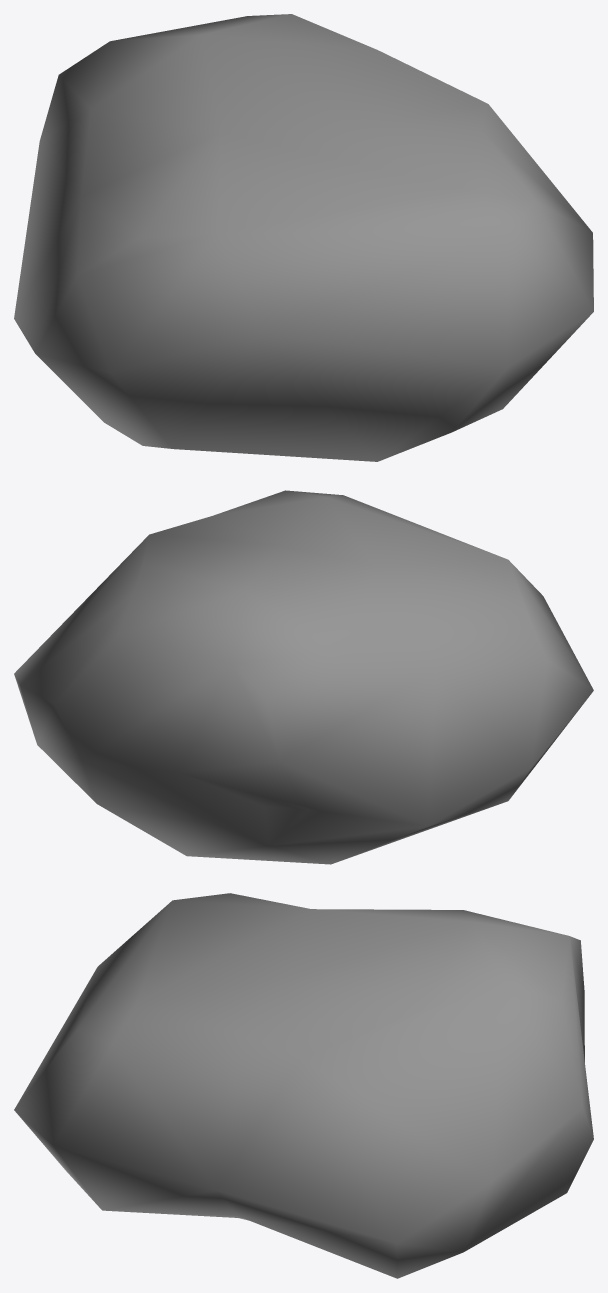
The model's file is Stone4_2.fbx.
3 views of the same model, one above another, from view 1: azimuth 30°, elevation 25°; view 2: azimuth 150°, elevation 25°; view 3: azimuth 270°, elevation 25° (orthographic). The views are drawn at different scales.
Visible parts, largest first — view 1: Stone2; view 2: Stone2; view 3: Stone2.
Boxes of the visible parts, x1,y1,x2,y2 form: Stone2: (14,14,593,461); Stone2: (14,490,593,864); Stone2: (14,893,593,1278).
Bounding box in the file's own units: 99.61 × 55.22 × 97.48.
